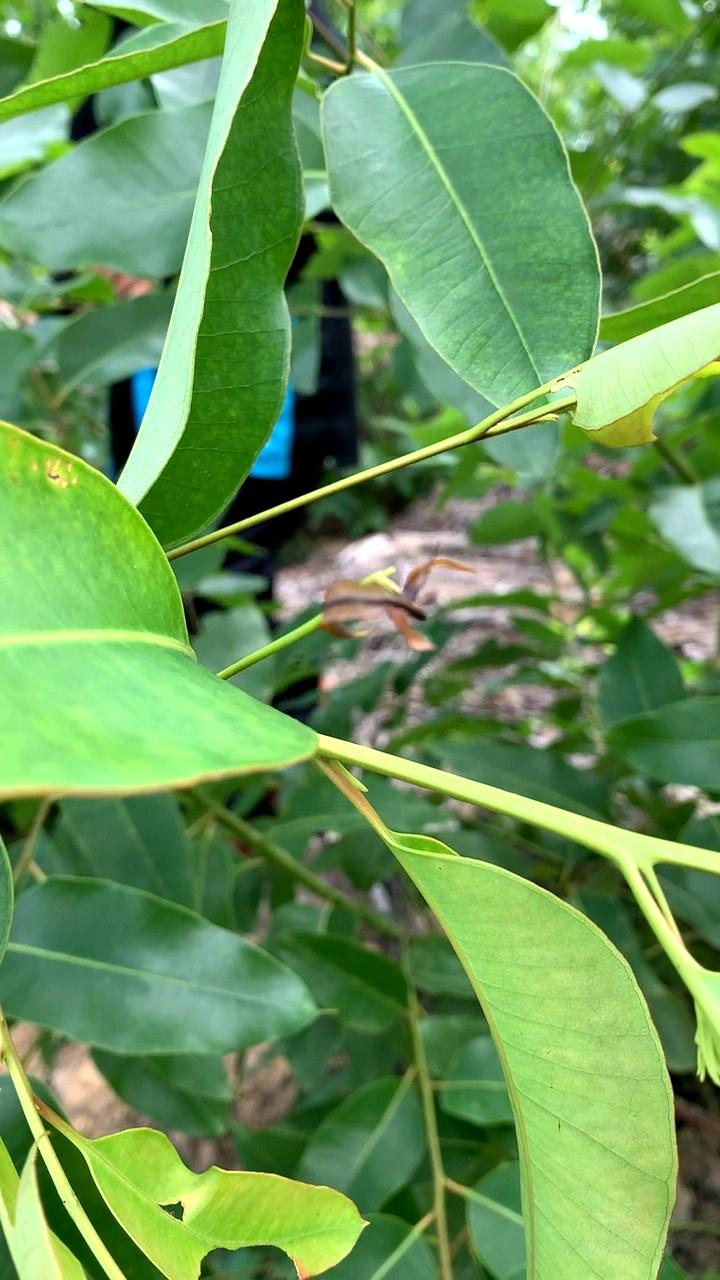Helopeltis-Withered Sprout: (313, 555, 483, 659)
